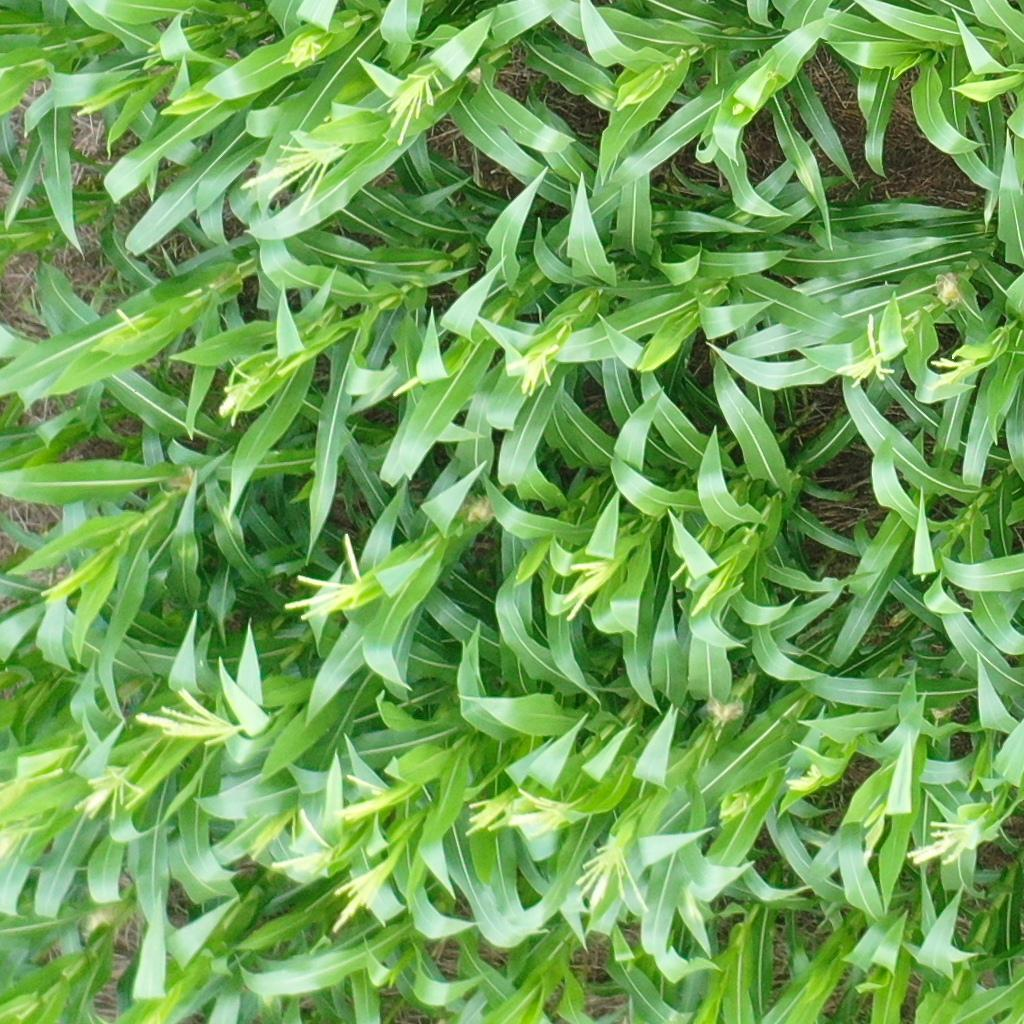Tassel: (281, 531, 374, 620), (238, 141, 342, 216), (125, 687, 247, 747), (220, 349, 309, 420), (575, 831, 652, 913), (463, 781, 572, 836), (380, 65, 443, 146), (70, 761, 148, 825), (837, 310, 899, 390), (907, 814, 984, 873), (333, 859, 391, 933), (252, 829, 331, 879), (553, 558, 613, 621), (333, 771, 397, 826), (508, 338, 559, 395), (686, 565, 726, 618), (925, 350, 977, 390), (284, 31, 327, 68), (784, 760, 824, 796), (713, 786, 751, 822), (727, 97, 748, 116)
